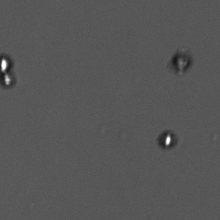Dead Cell: (170, 51, 192, 73)
Living Cell: (156, 130, 180, 149), (1, 72, 15, 87), (1, 55, 12, 74)
